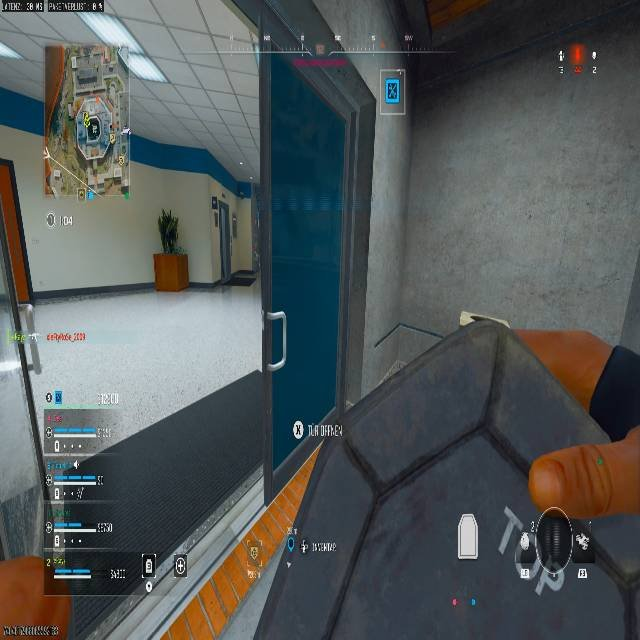player: (157, 208, 178, 253)
